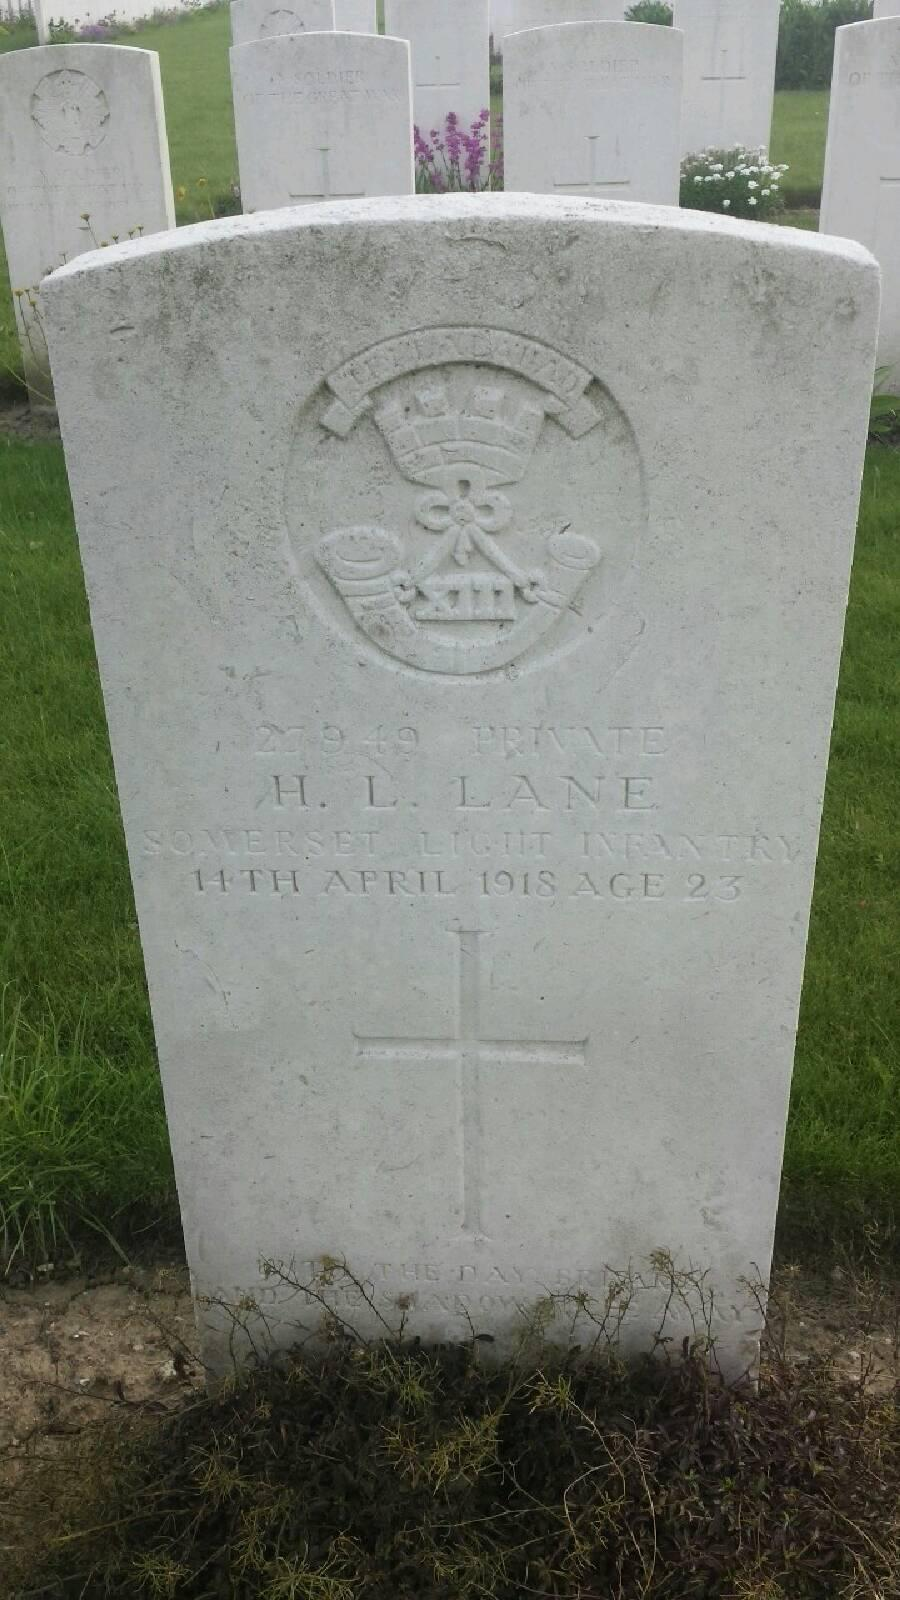military: (38, 195, 888, 1400)
